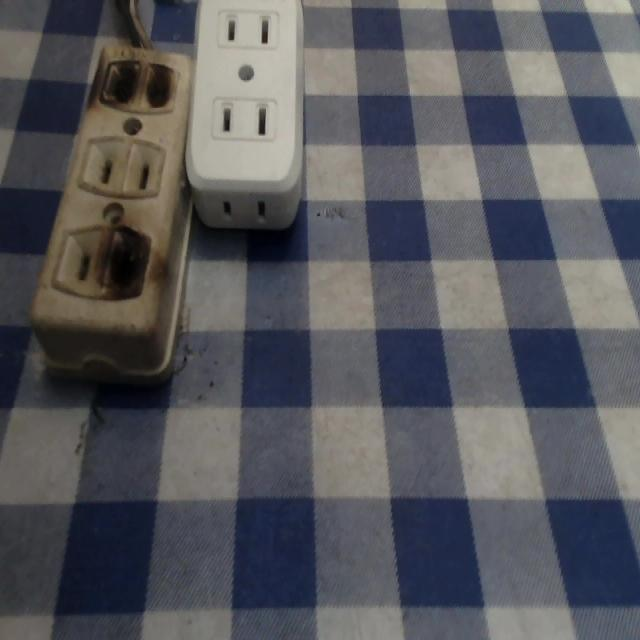-: (99, 52, 182, 116), (102, 227, 154, 304)
